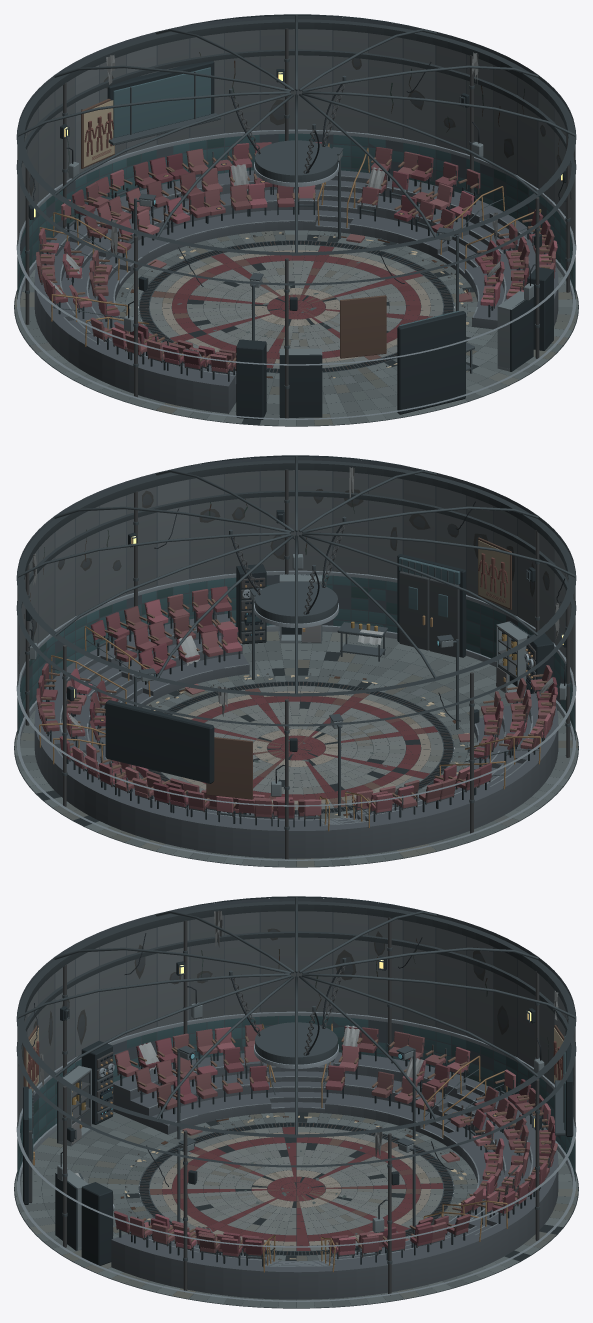
Rendered from eccepry_ring_9m.glb.
3 views of the same model, one above another, from view 1: azimuth 30°, elevation 25°; view 2: azimuth 150°, elevation 25°; view 3: azimuth 270°, elevation 25° (orthographic).
Parts seen in each view (by area): view 1: arena_wall, arena_floor, wall_cornices, exterior_floor, bank_02_chair_cushions, ceiling_ribs, bank_02_concrete_steps, observation_window, double_entrance_door, bank_04_concrete_steps, anatomical_poster, bank_01_concrete_steps (+35 smaller); view 2: arena_wall, exterior_floor, wall_cornices, arena_floor, bank_02_concrete_steps, ceiling_ribs, observation_window, bank_05_chair_cushions, double_entrance_door, bank_03_concrete_steps, bank_02_chair_cushions, anatomical_poster (+35 smaller); view 3: arena_wall, arena_floor, wall_cornices, exterior_floor, ceiling_ribs, bank_05_concrete_steps, bank_02_chair_cushions, bank_04_chair_cushions, bank_01_concrete_steps, bank_04_concrete_steps, bank_02_concrete_steps, bank_03_concrete_steps (+33 smaller).
Part boxes in pixels (box(x1,y1,x2,y2)): arena_wall: box(17, 16, 575, 299); arena_floor: box(149, 245, 443, 368); wall_cornices: box(16, 19, 576, 419); exterior_floor: box(14, 230, 578, 425); bank_02_chair_cushions: box(61, 142, 321, 253); ceiling_ribs: box(17, 15, 575, 252); bank_02_concrete_steps: box(57, 170, 321, 275); observation_window: box(107, 61, 220, 145); double_entrance_door: box(397, 311, 465, 414); bank_04_concrete_steps: box(90, 341, 236, 413); anatomical_poster: box(81, 98, 386, 358); bank_01_concrete_steps: box(349, 175, 499, 258); arena_wall: box(17, 457, 575, 740); exterior_floor: box(14, 631, 578, 866); wall_cornices: box(16, 460, 576, 860); arena_floor: box(161, 686, 443, 809); bank_02_concrete_steps: box(57, 762, 323, 858); ceiling_ribs: box(17, 456, 575, 693); observation_window: box(105, 700, 214, 783); bank_05_chair_cushions: box(90, 586, 242, 674); double_entrance_door: box(397, 554, 465, 657); bank_03_concrete_steps: box(349, 784, 499, 853); bank_02_chair_cushions: box(59, 736, 321, 818); anatomical_poster: box(206, 537, 511, 799); arena_wall: box(17, 898, 575, 1181); arena_floor: box(149, 1127, 443, 1250); wall_cornices: box(16, 901, 576, 1301); exterior_floor: box(14, 1112, 578, 1307); ceiling_ribs: box(17, 897, 575, 1134); bank_05_concrete_steps: box(111, 1233, 271, 1298); bank_02_chair_cushions: box(450, 1069, 557, 1213); bank_04_chair_cushions: box(114, 1024, 269, 1109); bank_01_concrete_steps: box(326, 1235, 474, 1298); bank_04_concrete_steps: box(113, 1053, 271, 1134); bank_02_concrete_steps: box(443, 1097, 558, 1253); bank_03_concrete_steps: box(325, 1052, 474, 1132).
Size of the model in its own units: 17.3 by 7.37 by 17.3.
